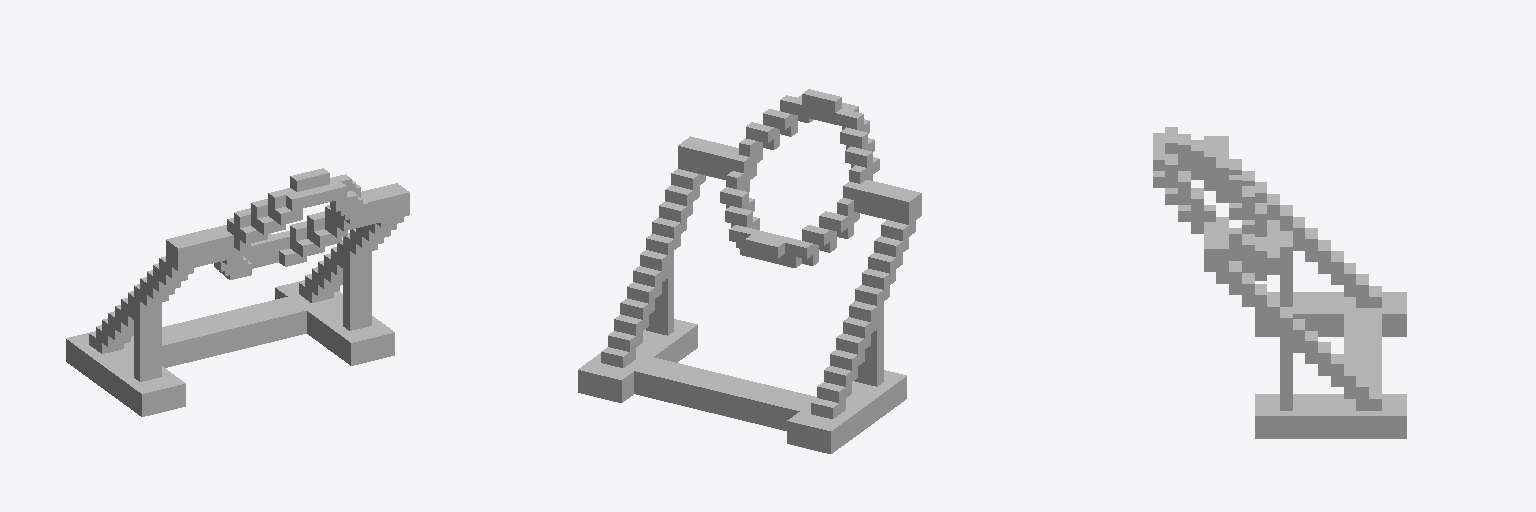
File: solarHeater.obj
The picture shows the model from 3 angles: view 1: azimuth 30°, elevation 25°; view 2: azimuth 150°, elevation 25°; view 3: azimuth 270°, elevation 25°; orthographic projection.
Bounding box in the file's own units: 0.92 × 0.84 × 0.8.